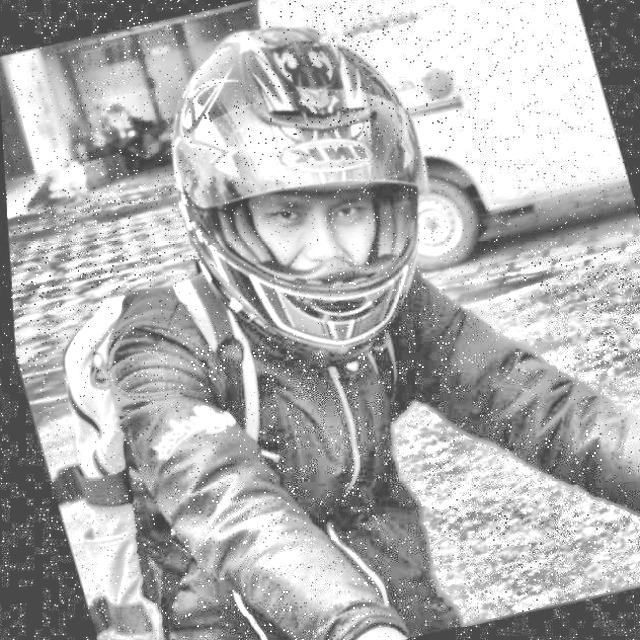Helmet: (126, 0, 482, 388)
